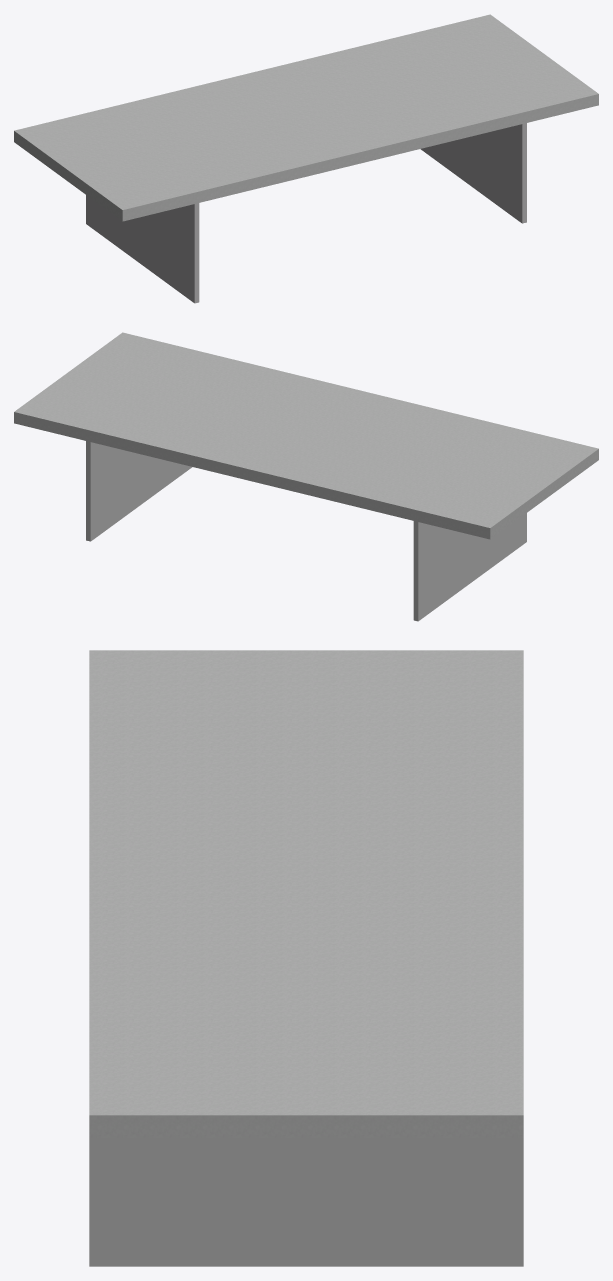
File: propConferenceTable.fbx
The picture shows the model from 3 angles, top to bottom: view 1: azimuth 30°, elevation 25°; view 2: azimuth 150°, elevation 25°; view 3: azimuth 270°, elevation 25°; orthographic projection. The views are drawn at different scales.
Parts seen in each view (by area): view 1: propConferenceTable; view 2: propConferenceTable; view 3: propConferenceTable.
Part boxes in pixels (x1=…): propConferenceTable: x1=14, y1=14, x2=598, y2=303; propConferenceTable: x1=14, y1=332, x2=598, y2=621; propConferenceTable: x1=89, y1=650, x2=523, y2=1266.
Size of the model in its own units: 393 by 87.4 by 155.
1 material, 1 textured.
